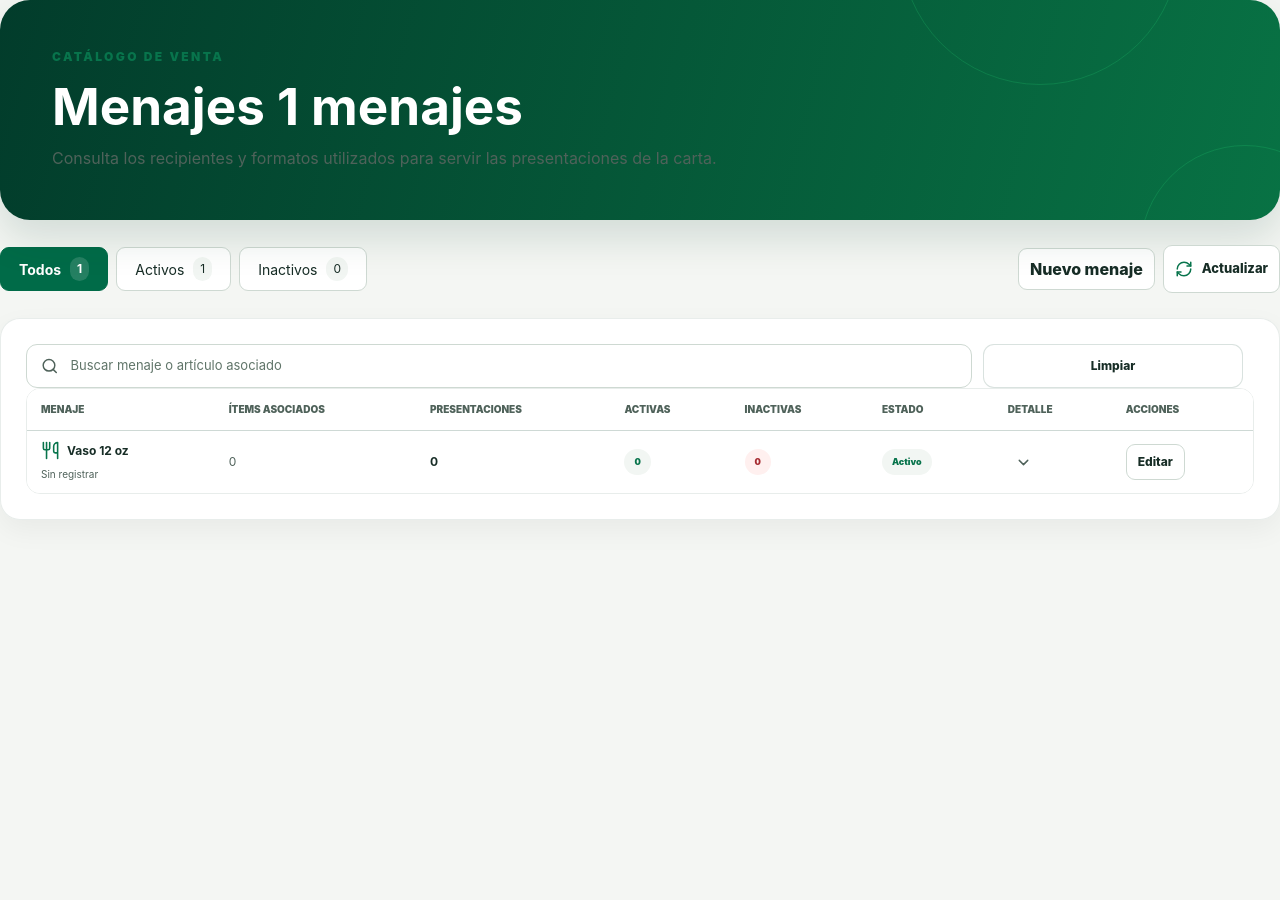
Test: does not infer measurements from names and submits empty measurements as null
Later steps or results of the test are not shown.
Expected: the text "Sin registrar" is shown, [41, 468, 98, 480]
Click the button "Editar" at (1155, 462), box [1126, 444, 1185, 480]
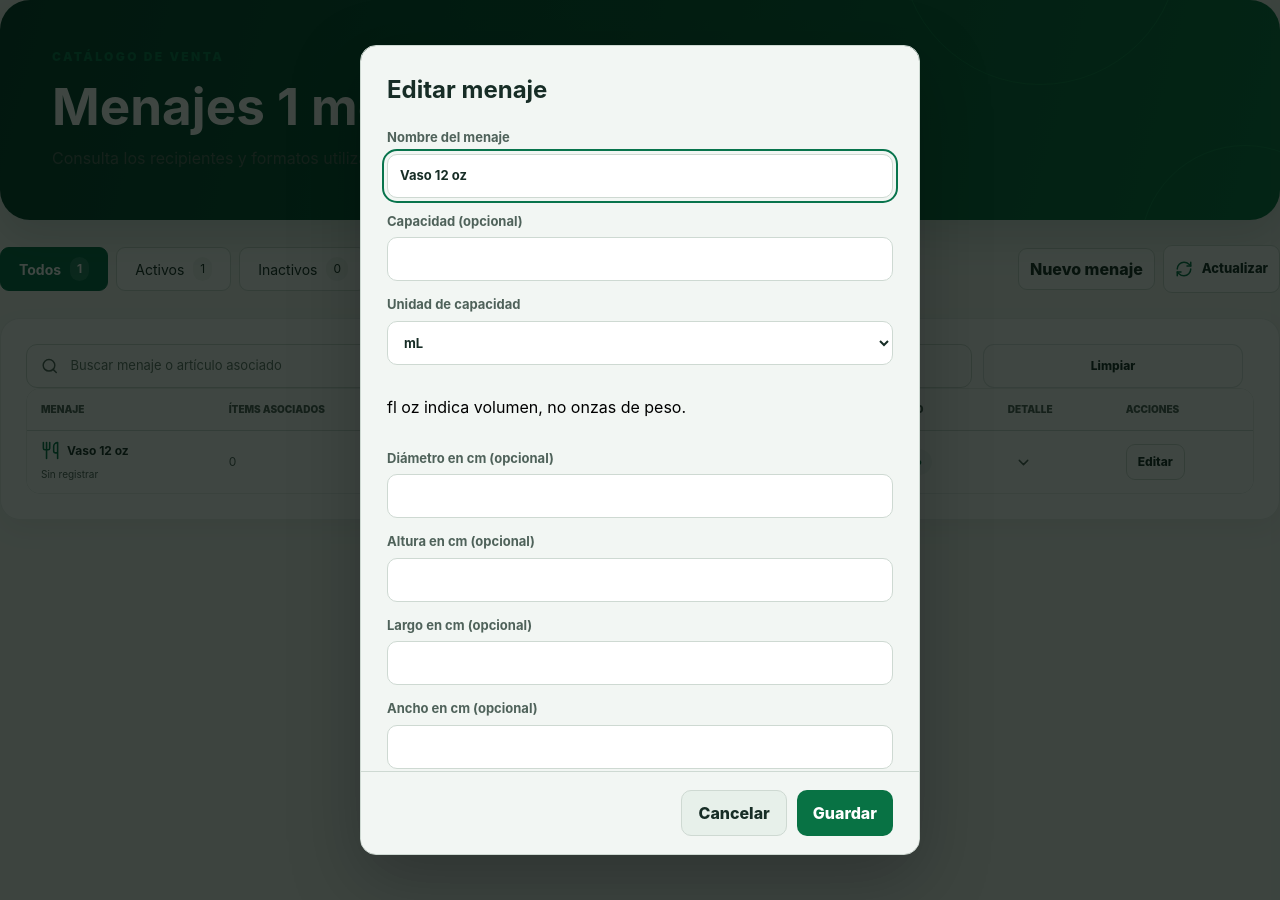
Now the number field labelled "Capacidad (opcional)" is empty, box [387, 237, 893, 281]
